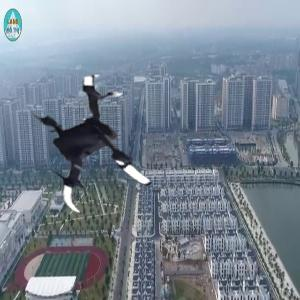drone: (13, 63, 169, 219)
